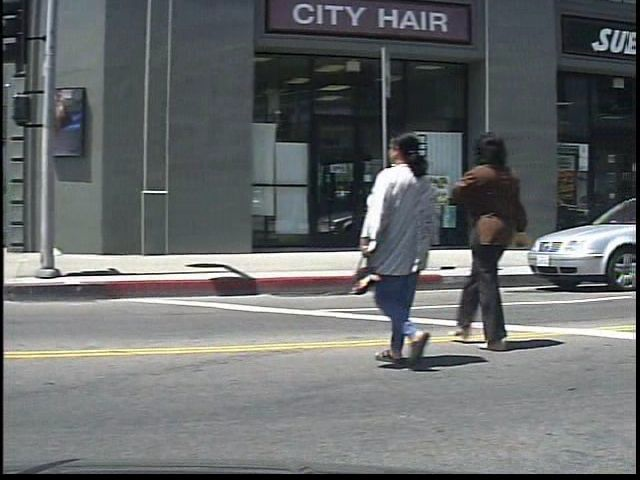person: (458, 125, 556, 355), (369, 122, 455, 372)
